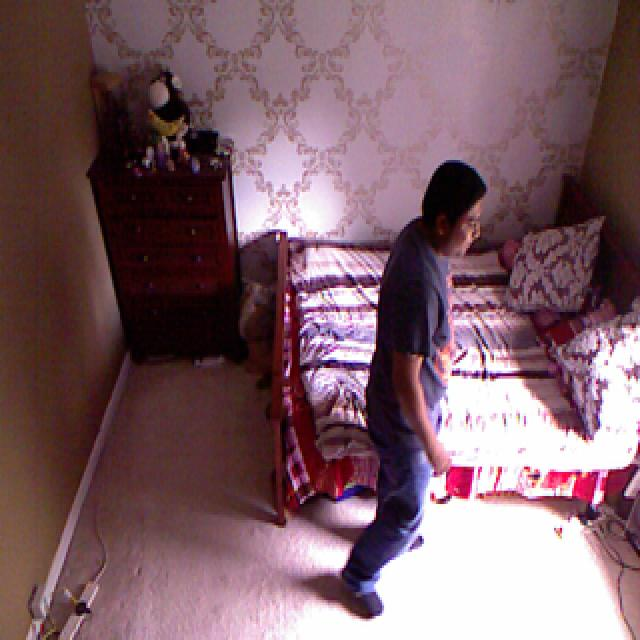standing: (354, 158, 484, 624)
